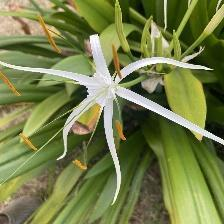spider lily: (1, 34, 224, 206)
